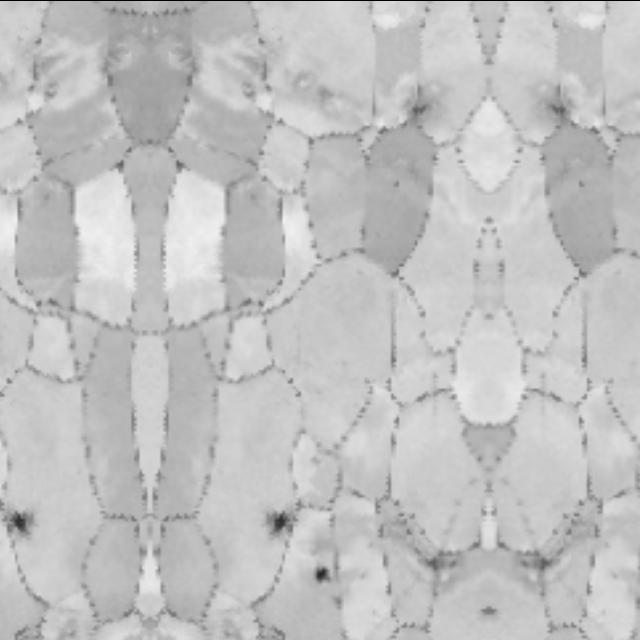good_void: (392, 74, 441, 145), (539, 74, 588, 145), (416, 542, 465, 588), (515, 542, 564, 588), (266, 505, 301, 540), (0, 505, 34, 540), (311, 561, 341, 589)
